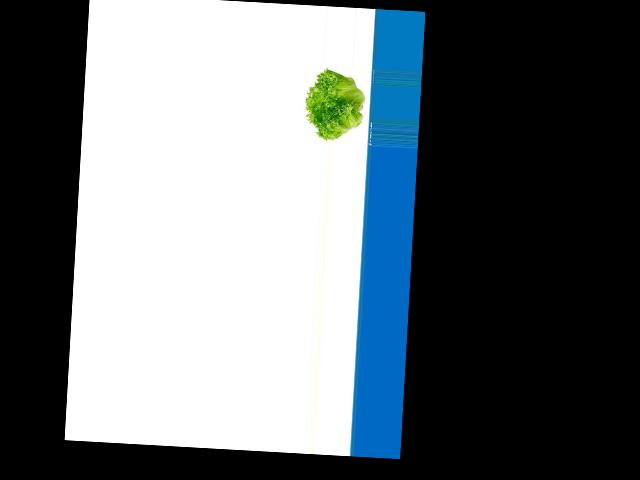lettuce: (301, 69, 370, 142)
